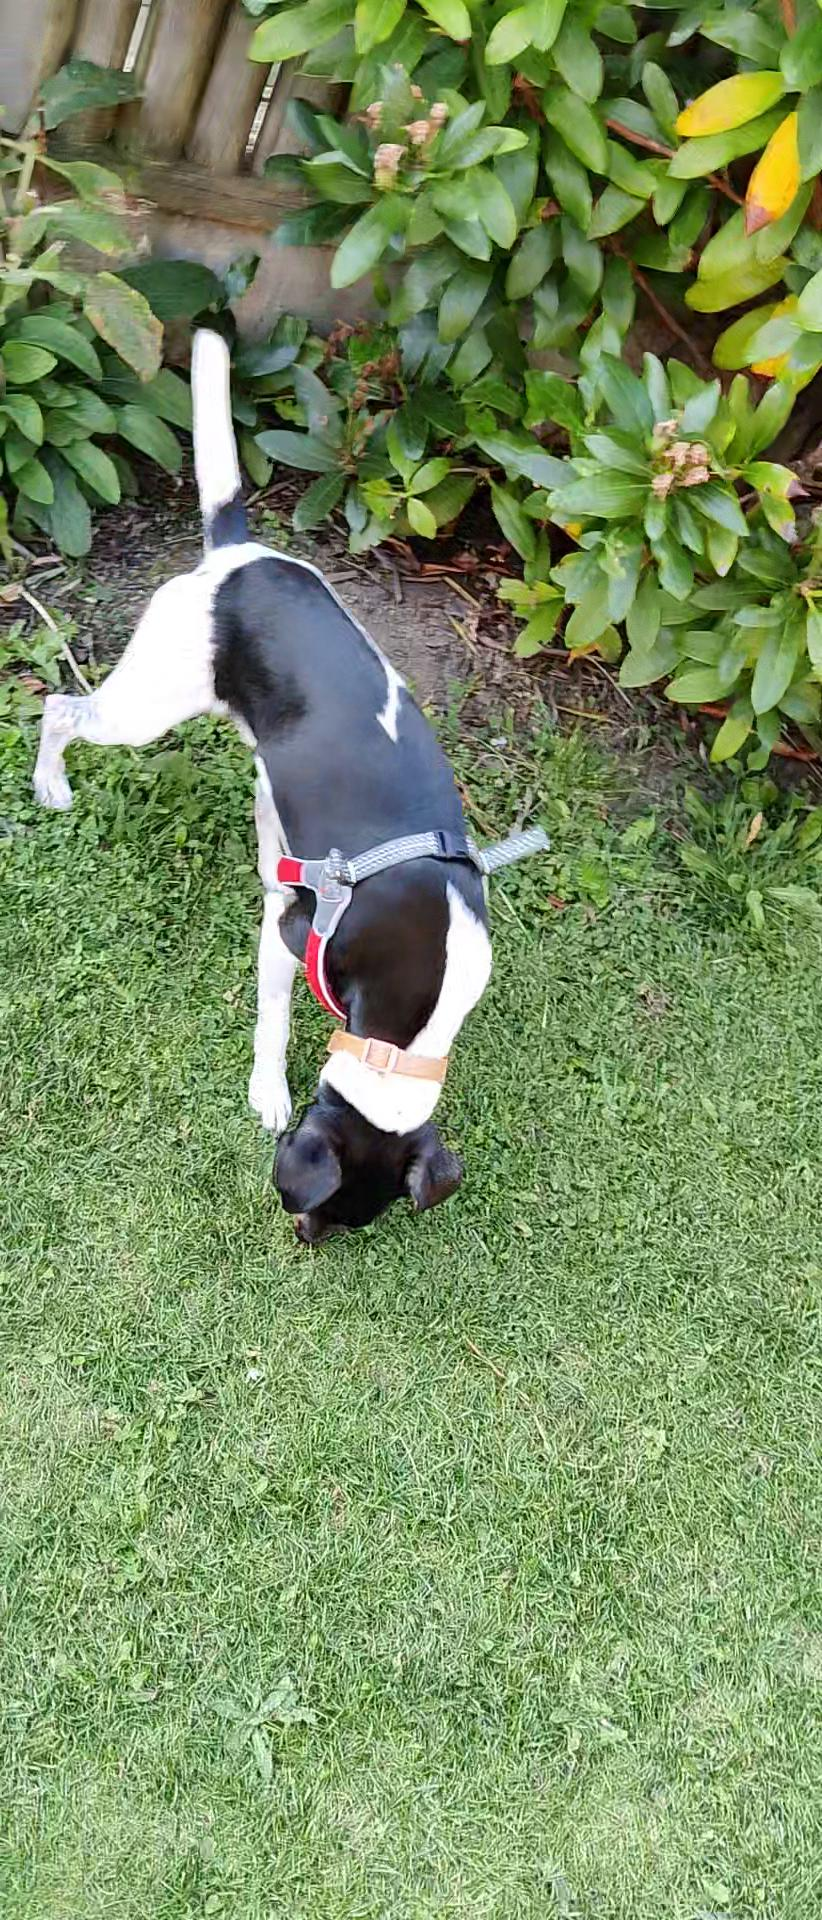Dog: (27, 317, 511, 1251)
